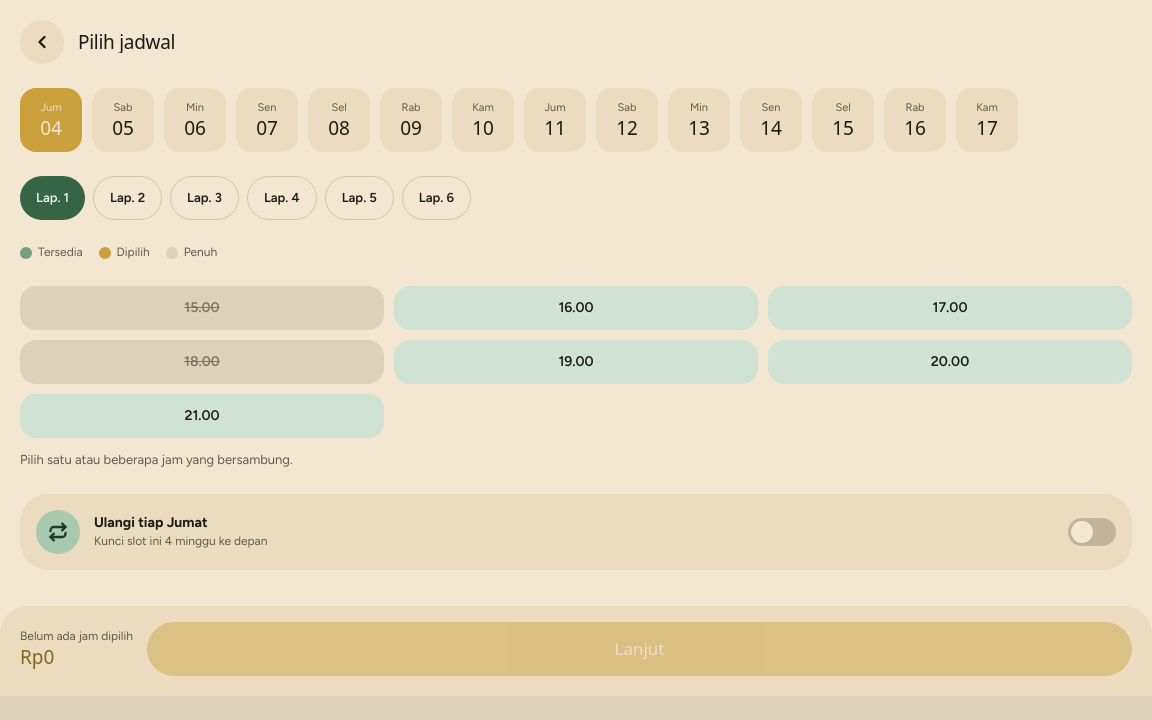
Test: ScheduleScreen — aturan pilih slot › menolak jam yang tidak bersambung dan menjelaskan alasannya
Click the button "19.00" at (576, 362), box [394,340,758,384]
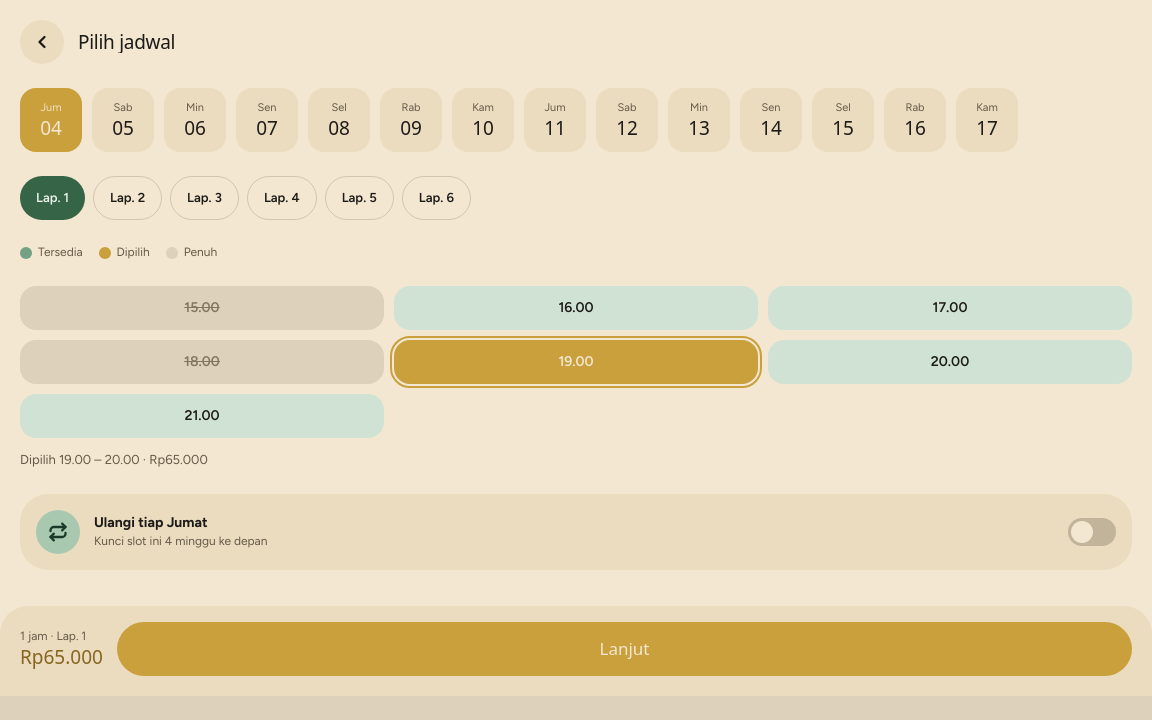
Click the button "21.00" at (202, 416), box [20,394,384,438]
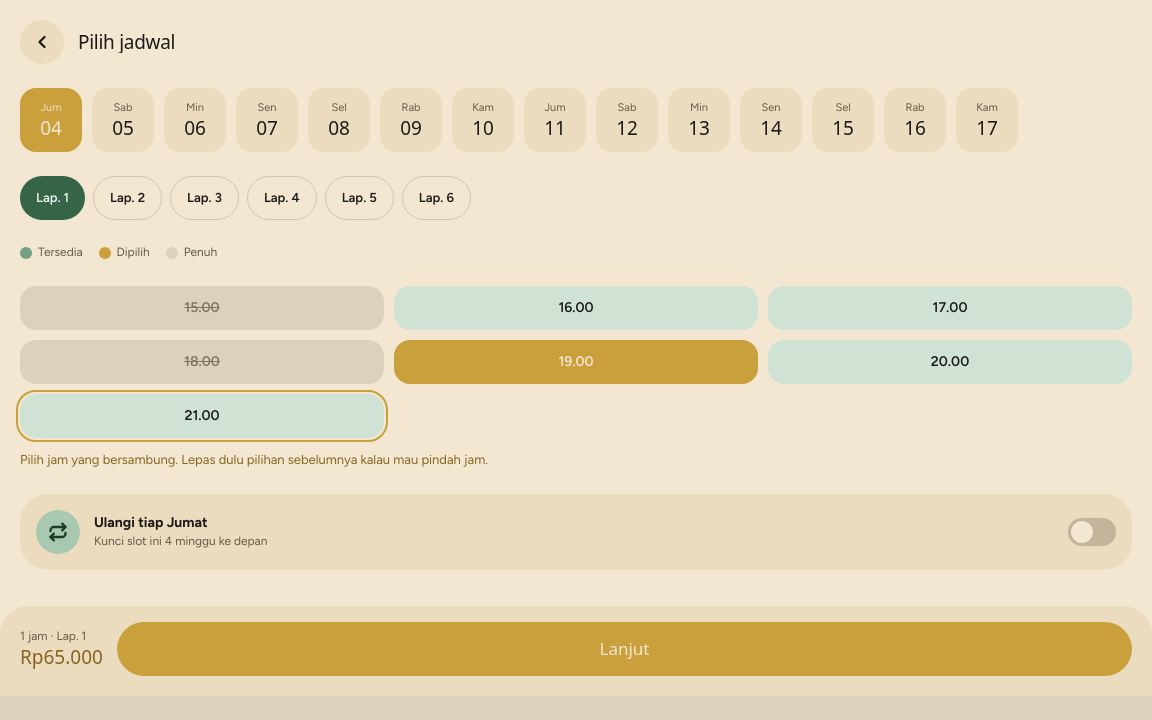
Now the text "Pilih jam yang bersambung" is shown, box [20,452,488,467]
